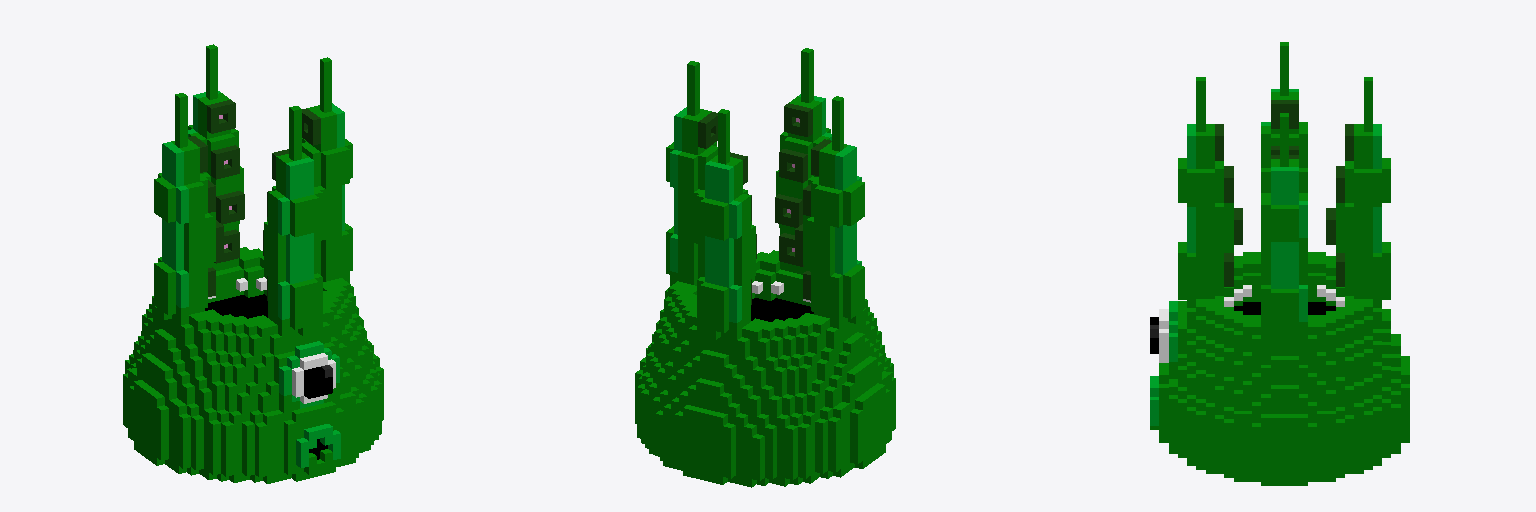
3 renders of one model, left to right at view 1: azimuth 30°, elevation 25°; view 2: azimuth 150°, elevation 25°; view 3: azimuth 270°, elevation 25°, orthographic.
Visible parts, largest first — view 1: monster2_run2; view 2: monster2_run2; view 3: monster2_run2.
Part boxes in pixels (bbox=[...]): monster2_run2: bbox=[123, 44, 383, 483]; monster2_run2: bbox=[635, 48, 895, 487]; monster2_run2: bbox=[1150, 42, 1409, 485].
Size of the model in its own units: 27 by 42 by 28.
1 materials, 1 textured.